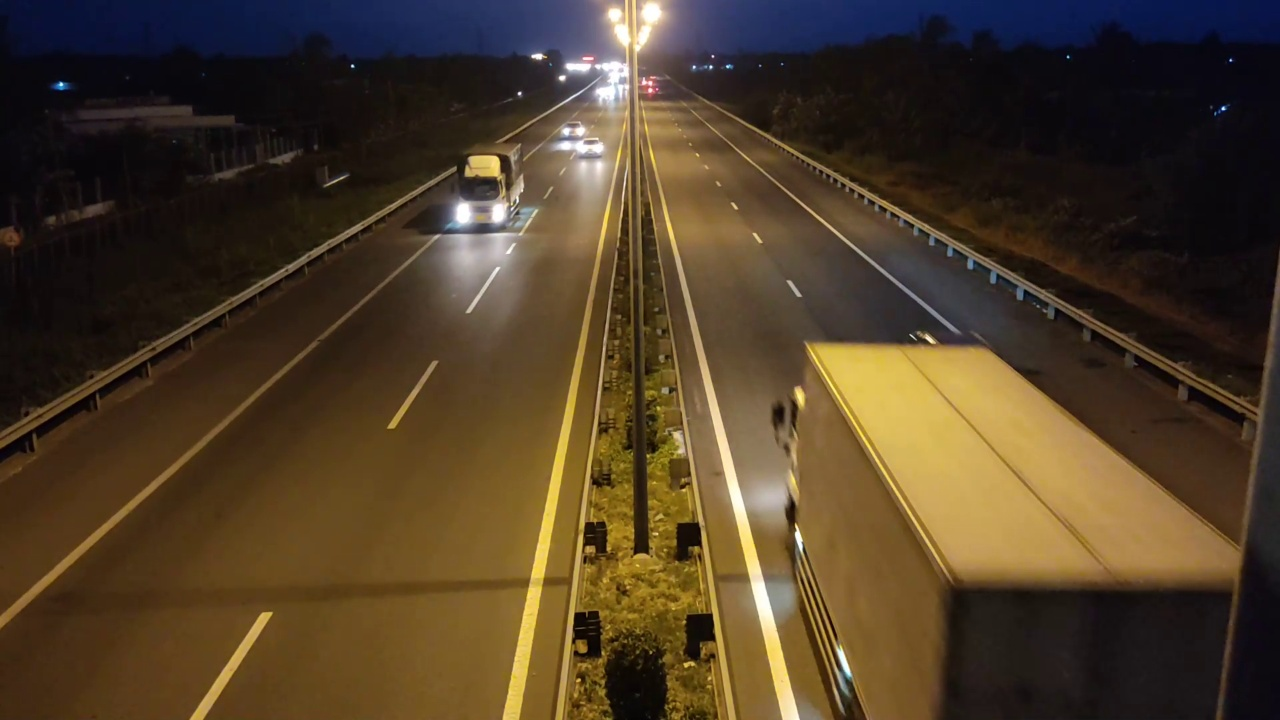car: (573, 138, 605, 158)
truck: (452, 138, 527, 232)
